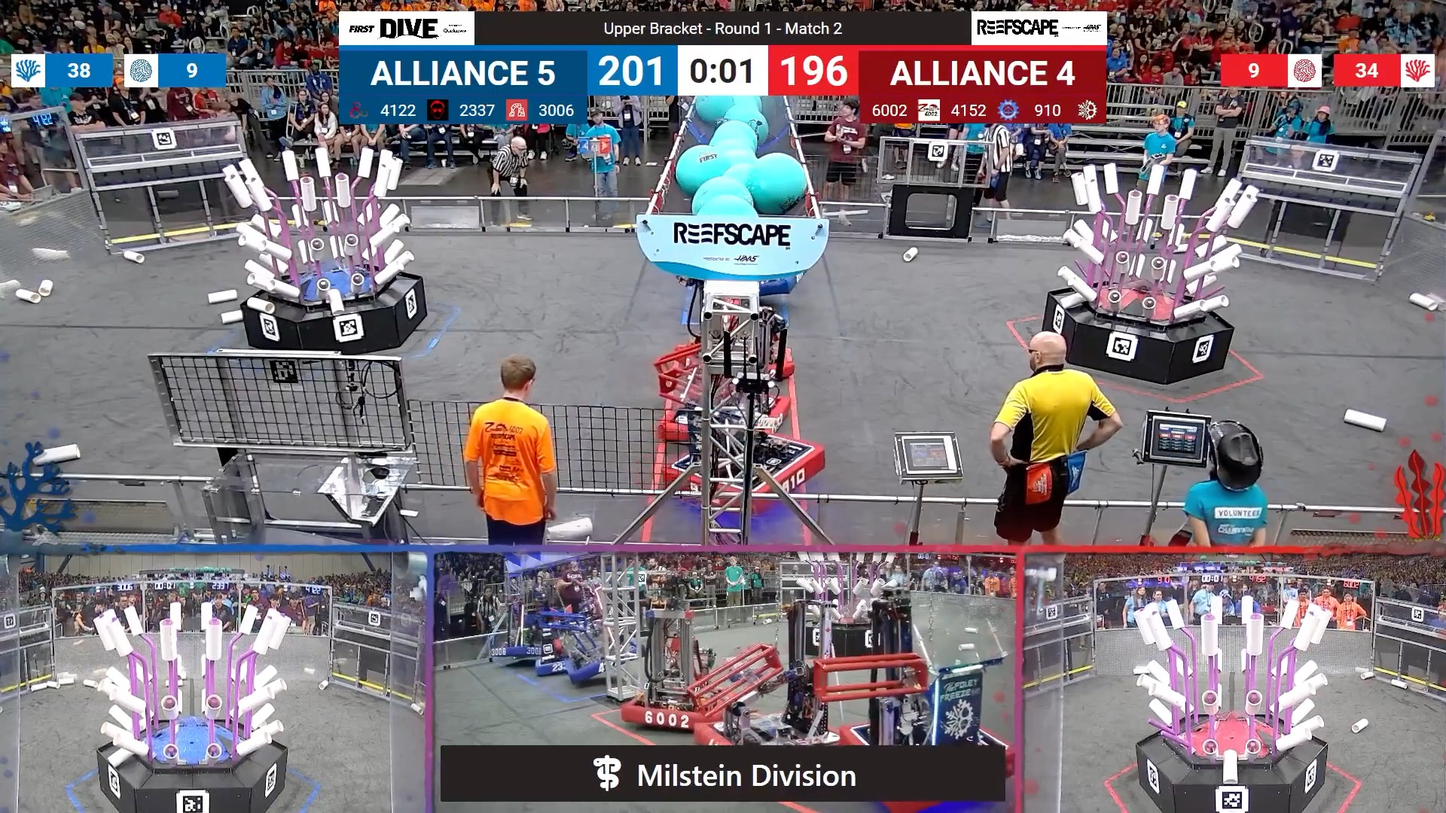bumpers: (655, 437, 824, 512), (547, 662, 615, 684)
